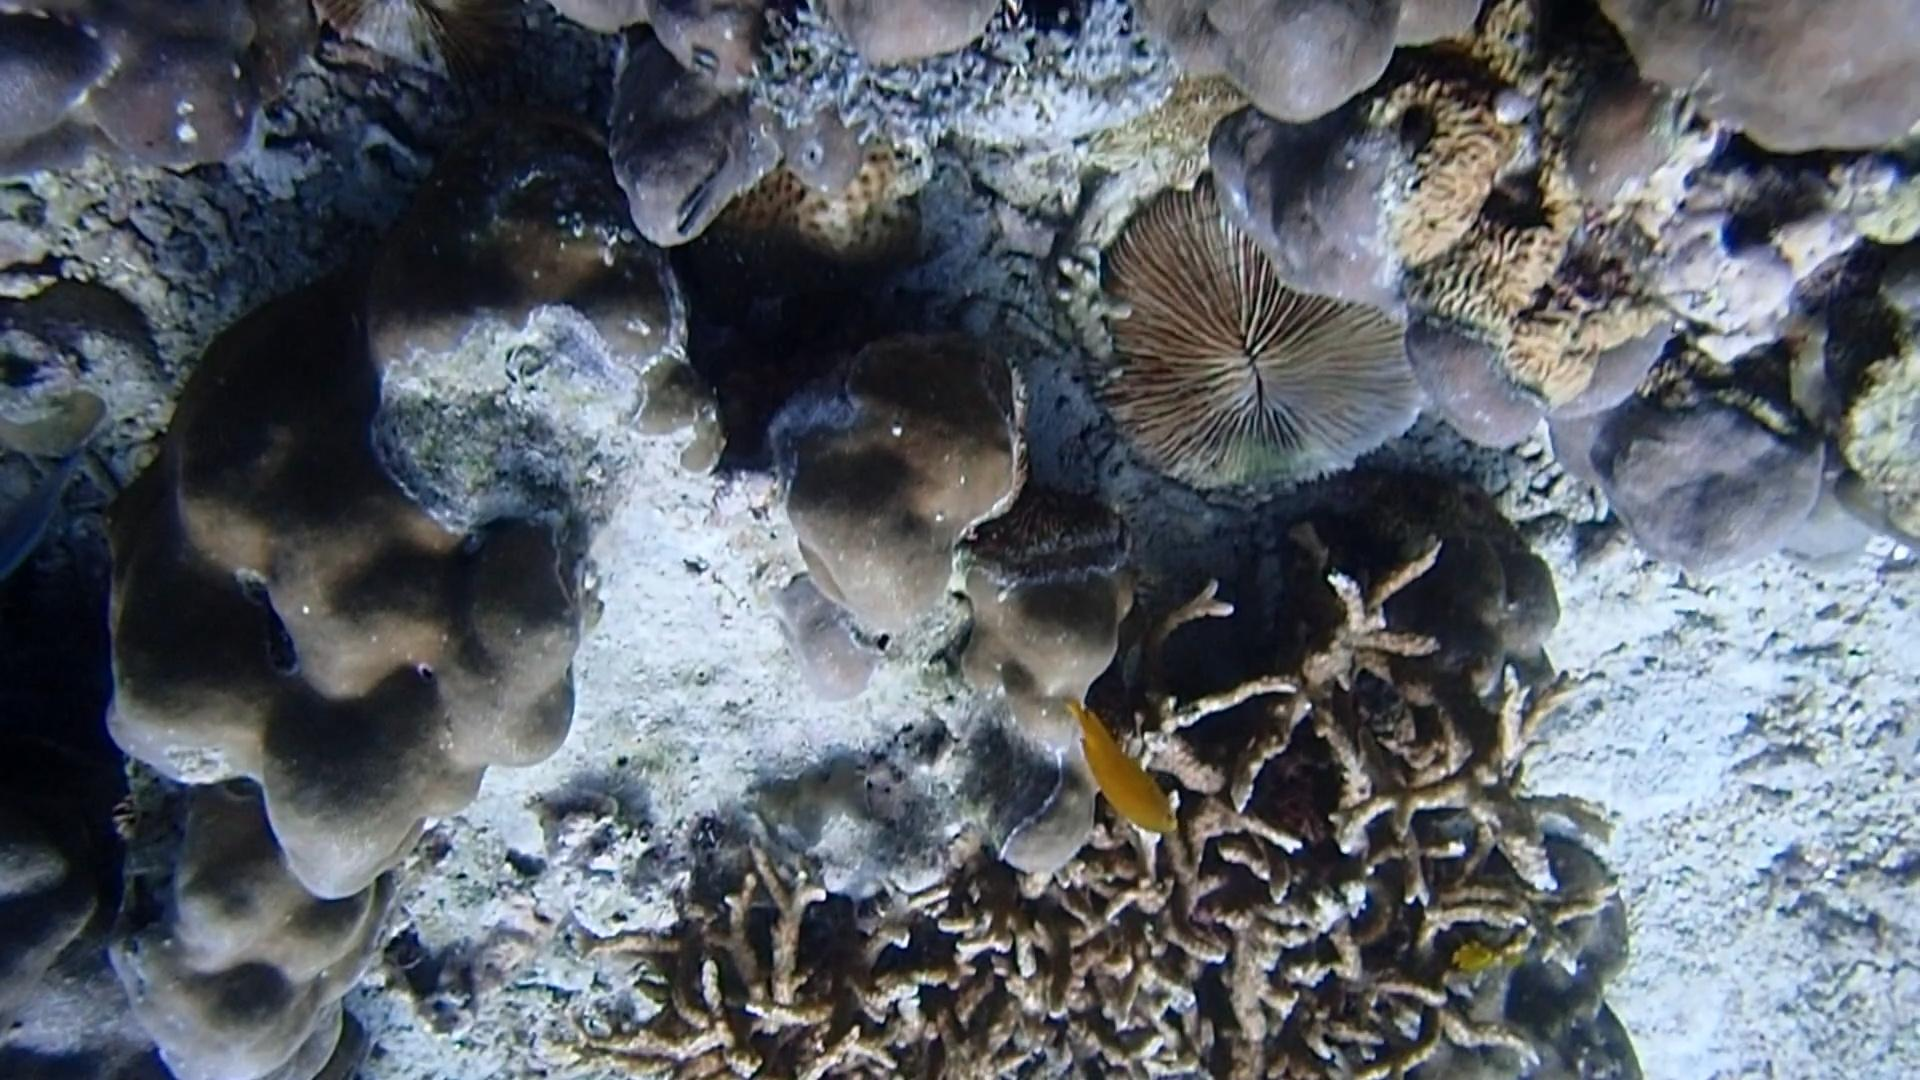Yellow Fish: (1054, 688, 1188, 843), (1443, 927, 1499, 982)
